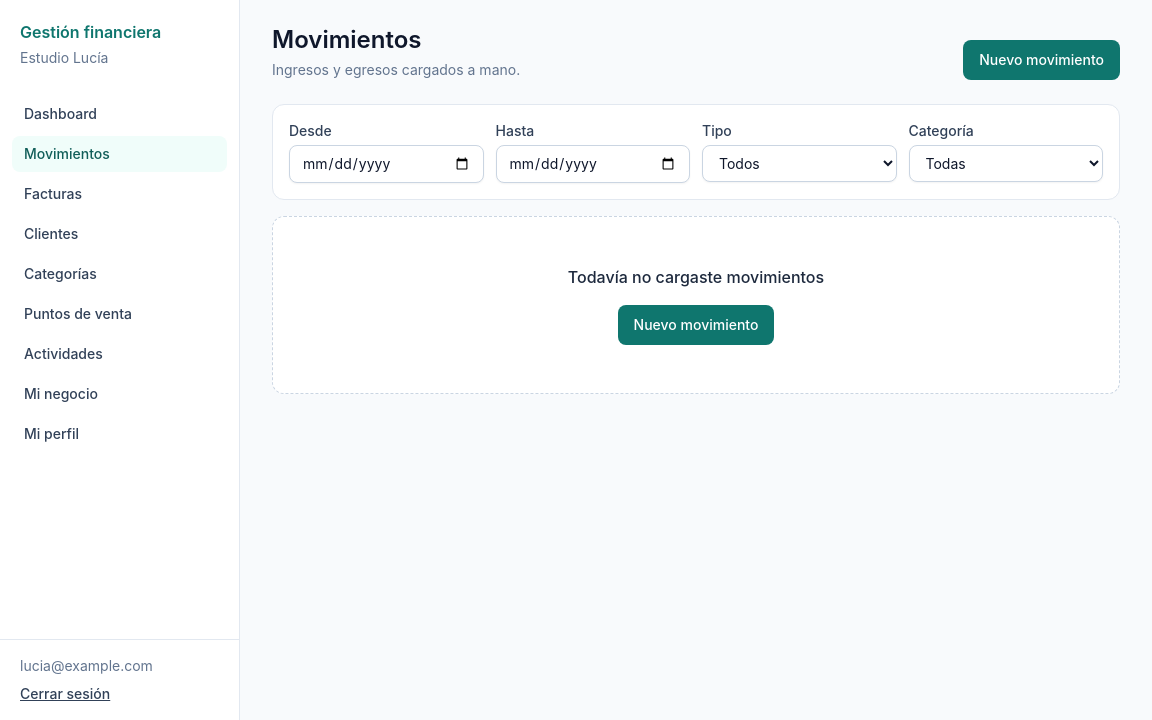
Test: new transaction form › suggests the USD rate, lets the user edit it and saves a copy
Click the button "Nuevo movimiento" in the row of "Ingresos y egresos cargados a mano." at (1042, 60), box [963,40,1120,80]
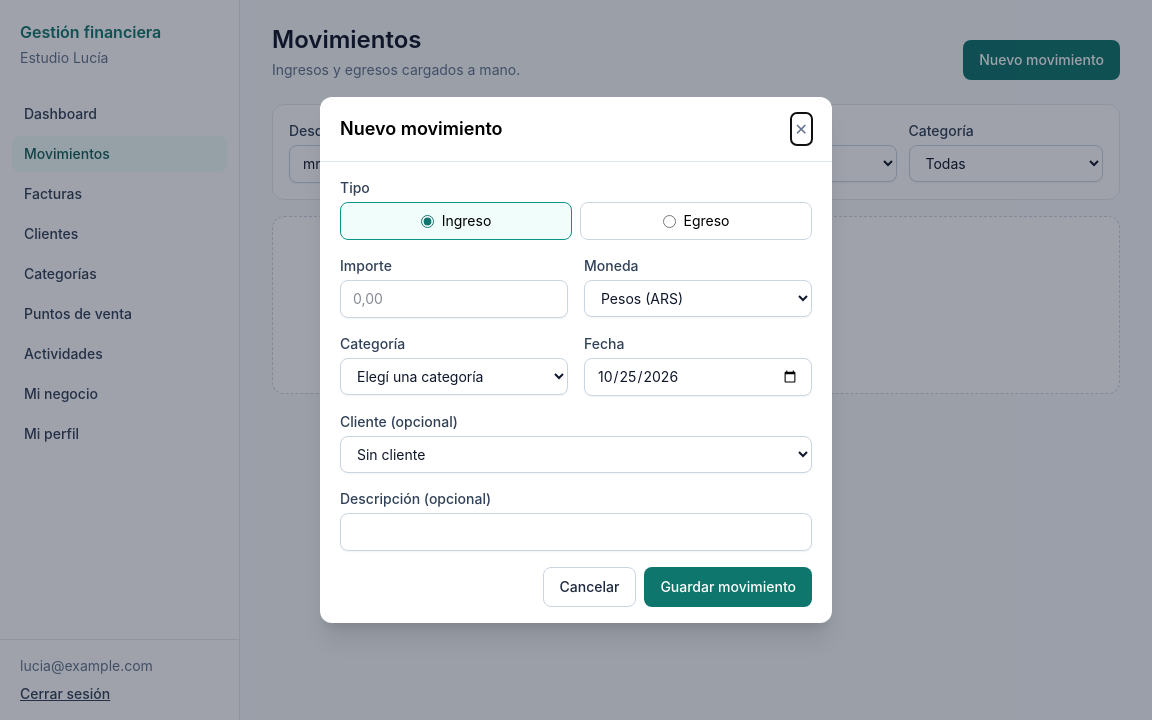
Type "100" into the field labelled "Importe" at (454, 299), box [340,280,568,318]
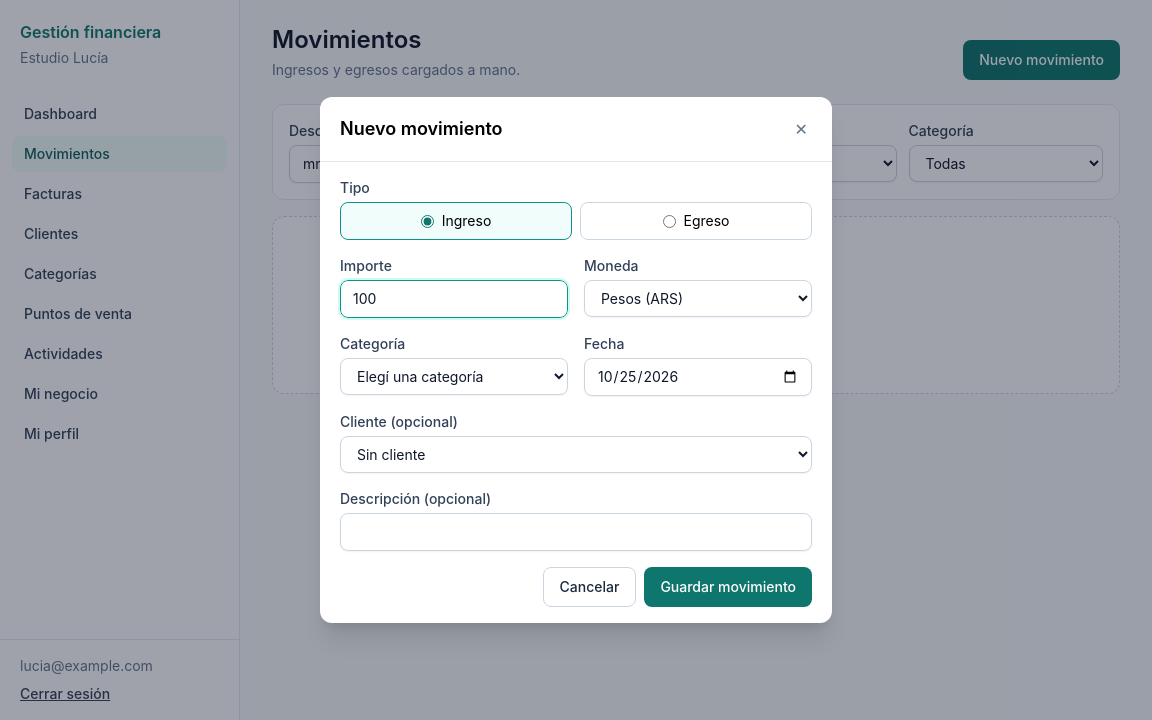
Select "Dólares (USD)" in the dropdown labelled "Moneda" at (698, 298), box [584,280,812,317]
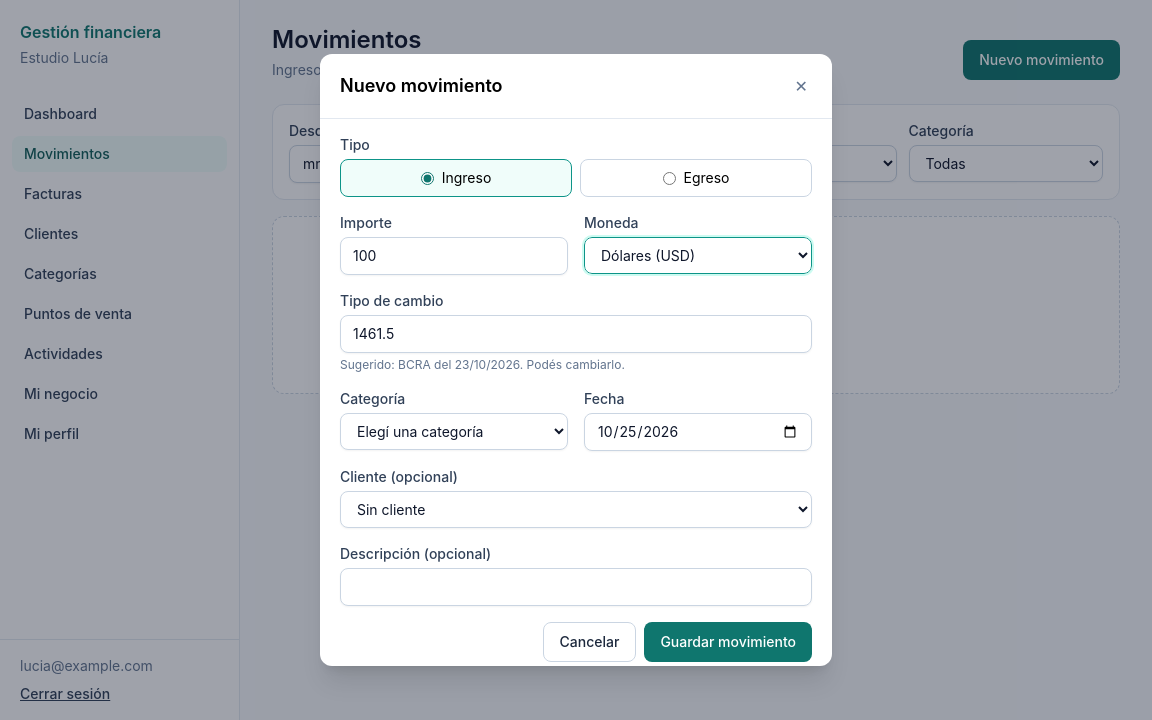
Now the field labelled "Tipo de cambio" is not empty
Now the text "Sugerido: BCRA del 23/10/2026. Podés cambiarlo." is shown, box [340,357,625,372]
Replace the text in the field labelled "Tipo de cambio" with "1400,50" at (576, 334), box [340,315,812,353]
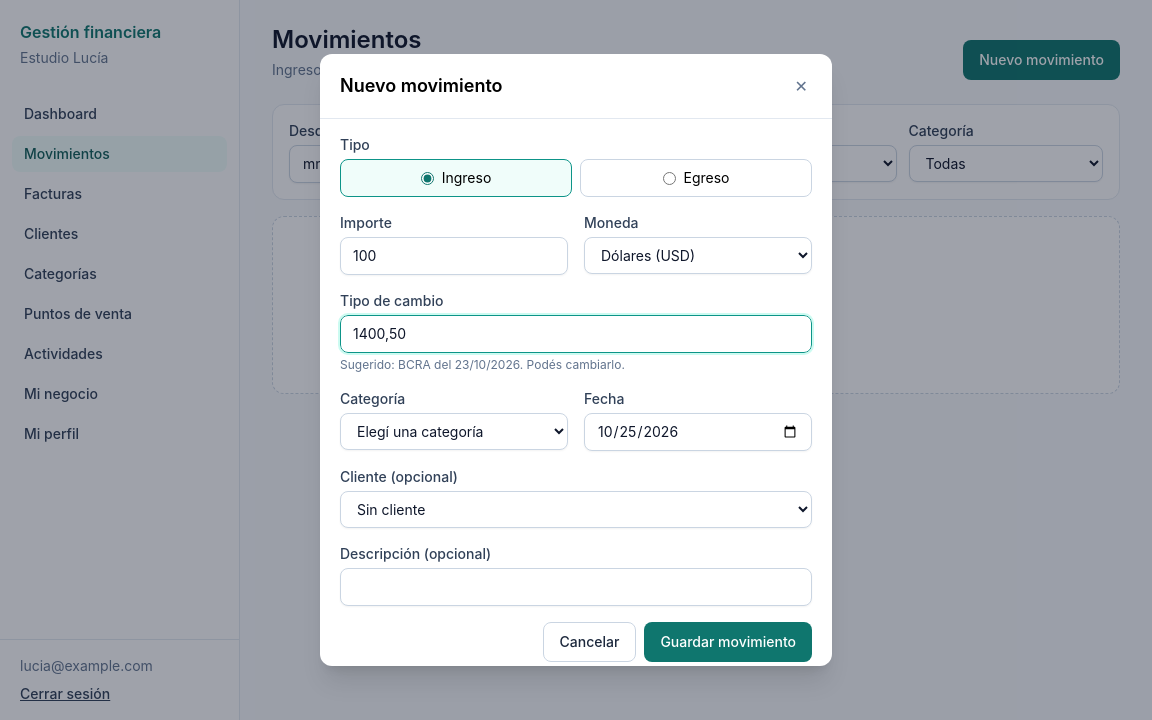
Select "Ventas" in the dropdown labelled "Categoría" at (454, 432), box [340,413,568,450]
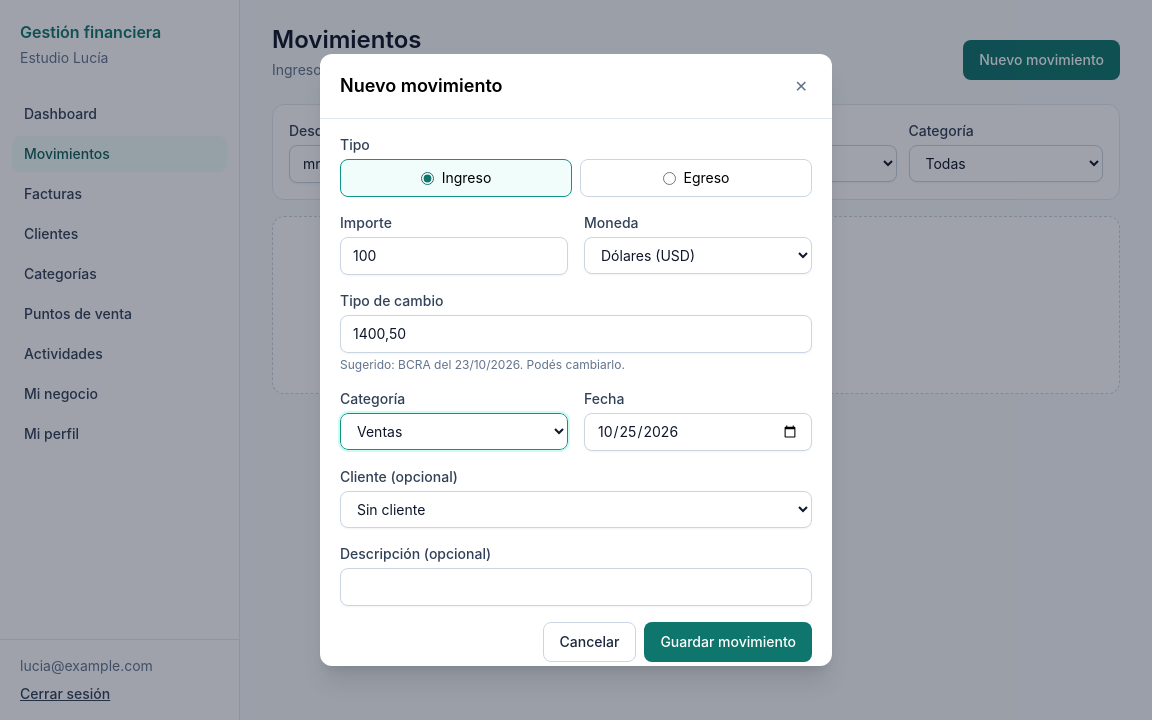
Click the button "Guardar movimiento" at (728, 642), box [644,622,812,662]
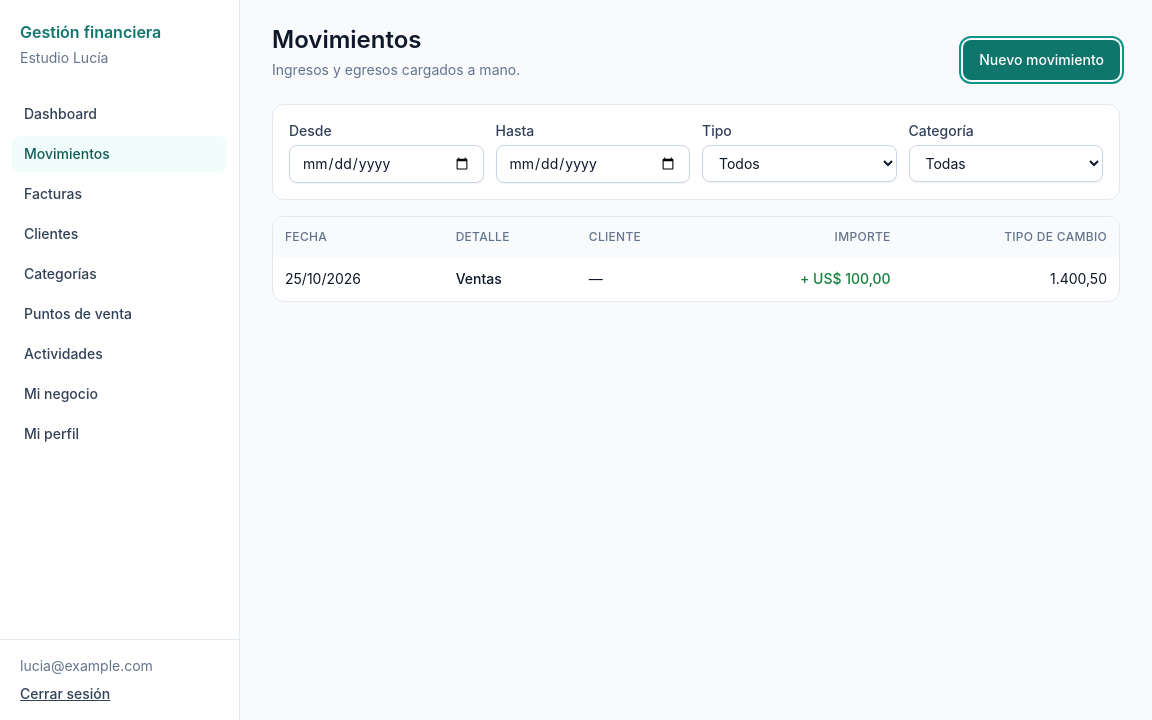
Now the cell "+ US$ 100,00" is shown, box [707,257,903,301]
